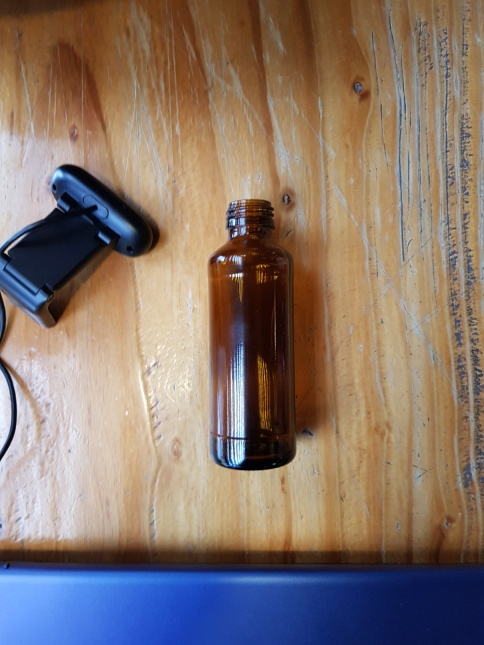Glass: (205, 196, 303, 479)
